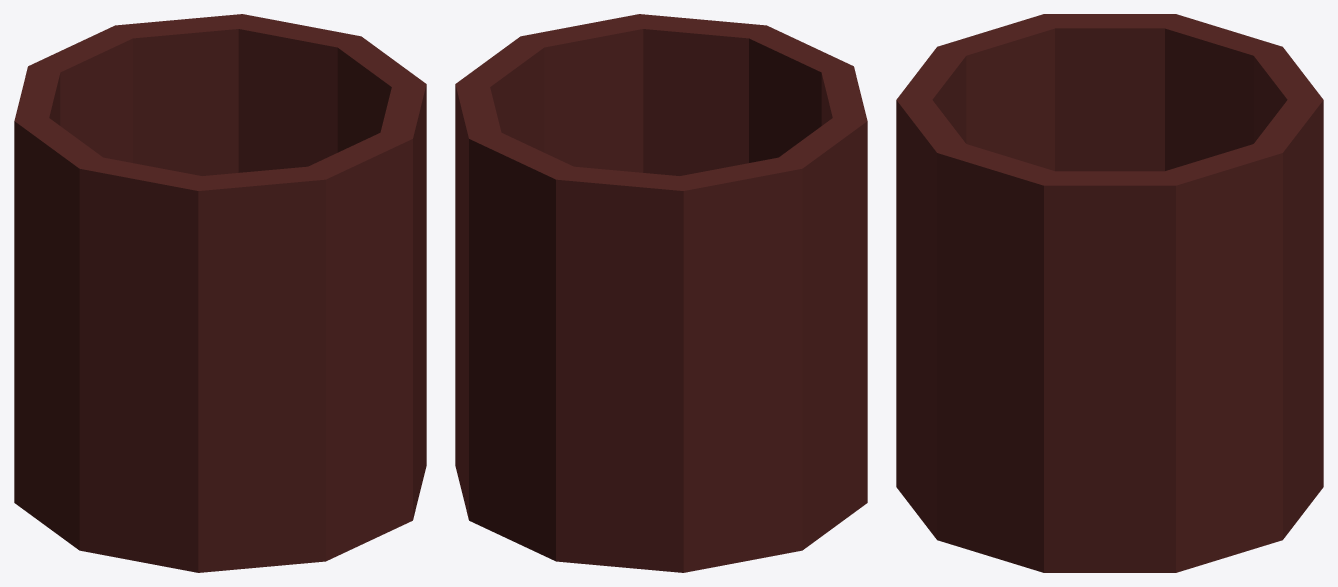
File: potionholder.fbx
The picture shows the model from 3 angles, left to right: view 1: azimuth 30°, elevation 25°; view 2: azimuth 150°, elevation 25°; view 3: azimuth 270°, elevation 25°; orthographic projection.
Parts seen in each view (by area): view 1: 円柱; view 2: 円柱; view 3: 円柱.
Boxes of the visible parts, x1=… form: 円柱: x1=14, y1=14, x2=426, y2=572; 円柱: x1=455, y1=14, x2=867, y2=572; 円柱: x1=896, y1=14, x2=1323, y2=572.
Size of the model in its own units: 190 by 200 by 200.
